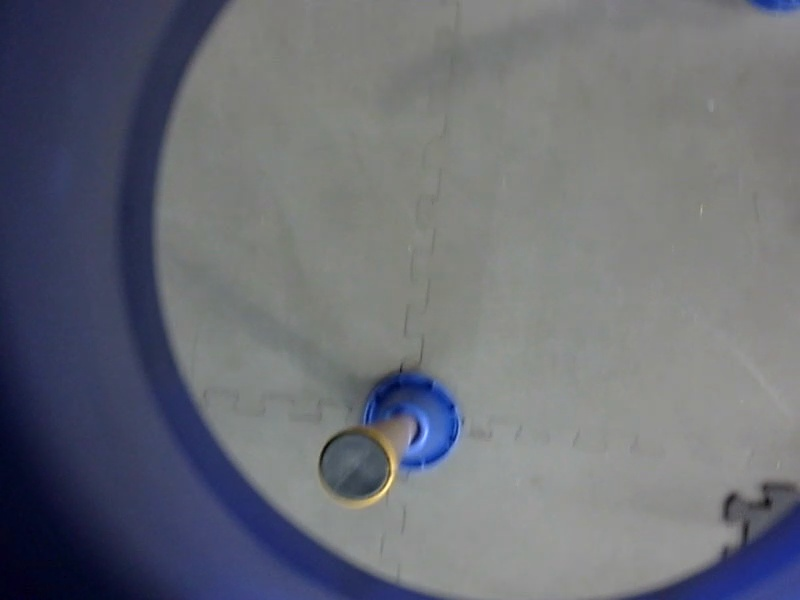tip: (307, 421, 402, 512)
